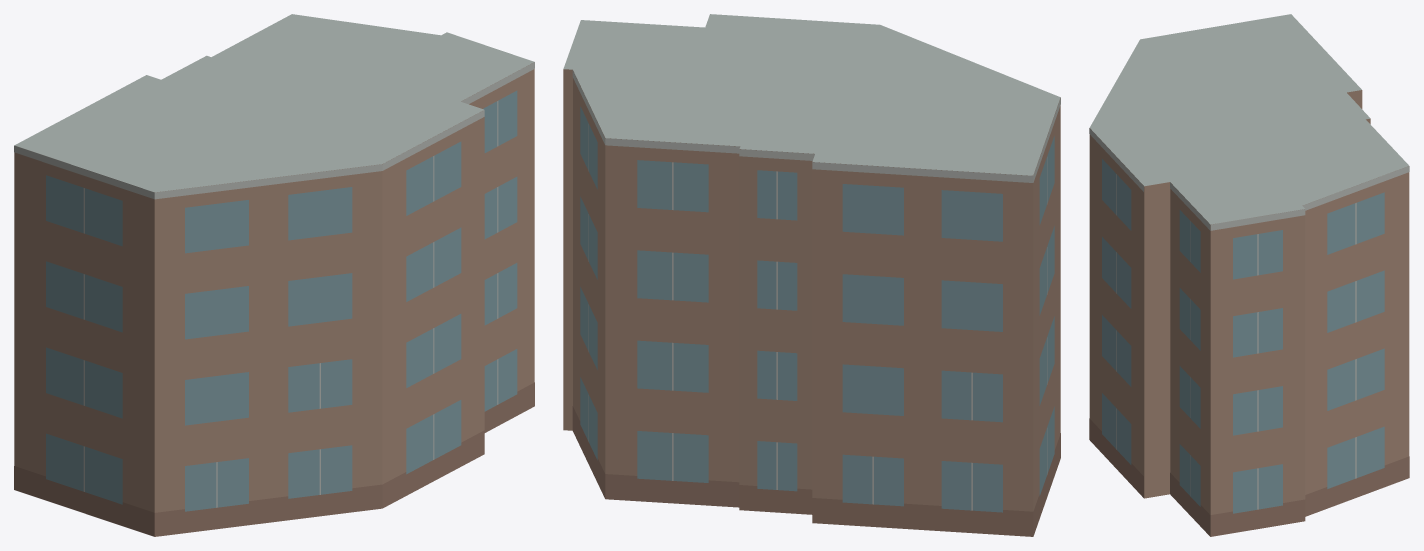
Rendered from survey-upis-32613359.glb.
The picture shows the model from 3 angles, left to right: view 1: azimuth 30°, elevation 25°; view 2: azimuth 150°, elevation 25°; view 3: azimuth 270°, elevation 25°; orthographic projection. The views are drawn at different scales.
Visible parts, largest first — view 1: survey-upis-32613359.tmp; view 2: survey-upis-32613359.tmp; view 3: survey-upis-32613359.tmp.
Boxes of the visible parts, <box> form: survey-upis-32613359.tmp: <box>14,14,534,536</box>; survey-upis-32613359.tmp: <box>563,14,1060,536</box>; survey-upis-32613359.tmp: <box>1089,14,1409,536</box>.
Bounding box in the file's own units: 17.51 × 12.1 × 11.24.
